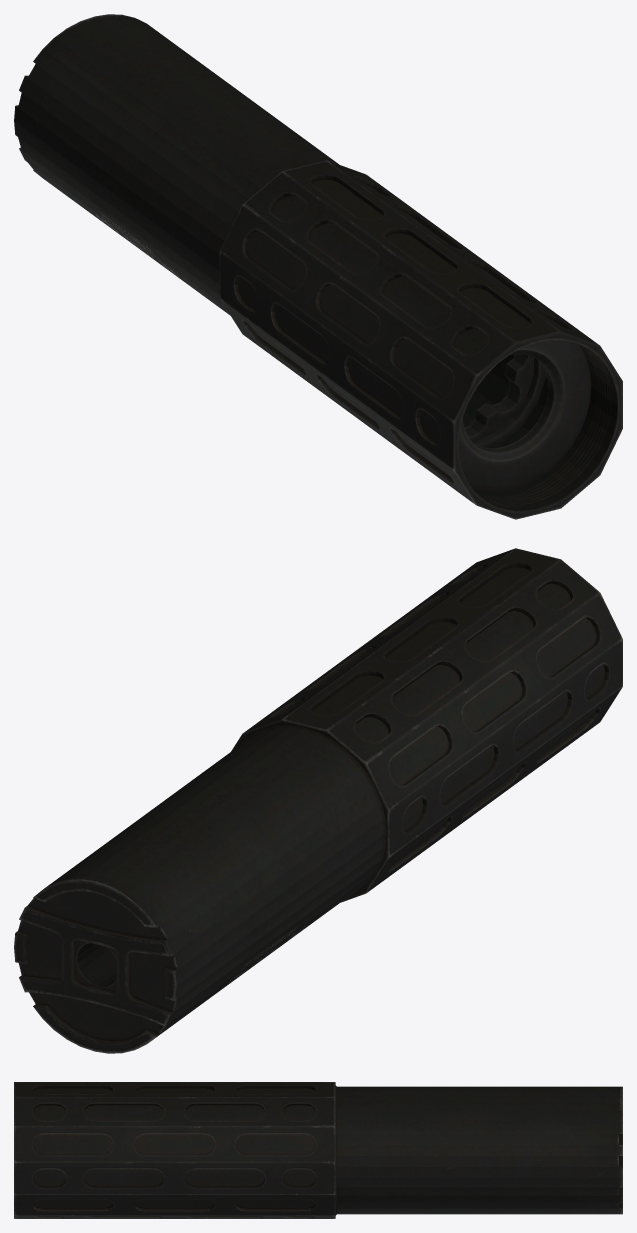
The picture shows the model from 3 angles, top to bottom: view 1: azimuth 30°, elevation 25°; view 2: azimuth 150°, elevation 25°; view 3: azimuth 270°, elevation 25°; orthographic projection. The views are drawn at different scales.
Parts seen in each view (by area): view 1: TW_5c7955c22e221644f31bfd5e_PZ_Import; view 2: TW_5c7955c22e221644f31bfd5e_PZ_Import; view 3: TW_5c7955c22e221644f31bfd5e_PZ_Import.
Part boxes in pixels (bbox=[...]): TW_5c7955c22e221644f31bfd5e_PZ_Import: bbox=[14, 14, 622, 519]; TW_5c7955c22e221644f31bfd5e_PZ_Import: bbox=[14, 548, 622, 1053]; TW_5c7955c22e221644f31bfd5e_PZ_Import: bbox=[14, 1082, 622, 1218].
Bounding box in the file's own units: 0.0246 × 0.1116 × 0.0246.
1 material, 1 textured.
